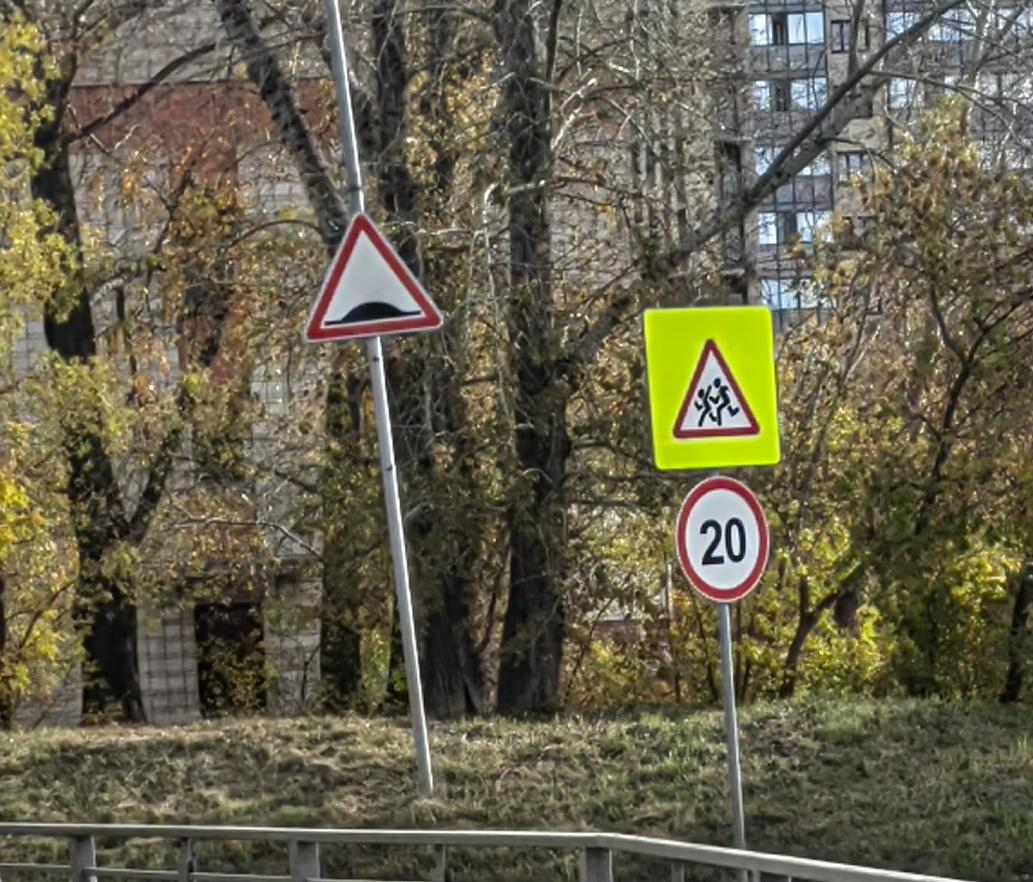road_sign: (645, 303, 781, 471), (302, 207, 445, 341), (677, 478, 768, 603)
